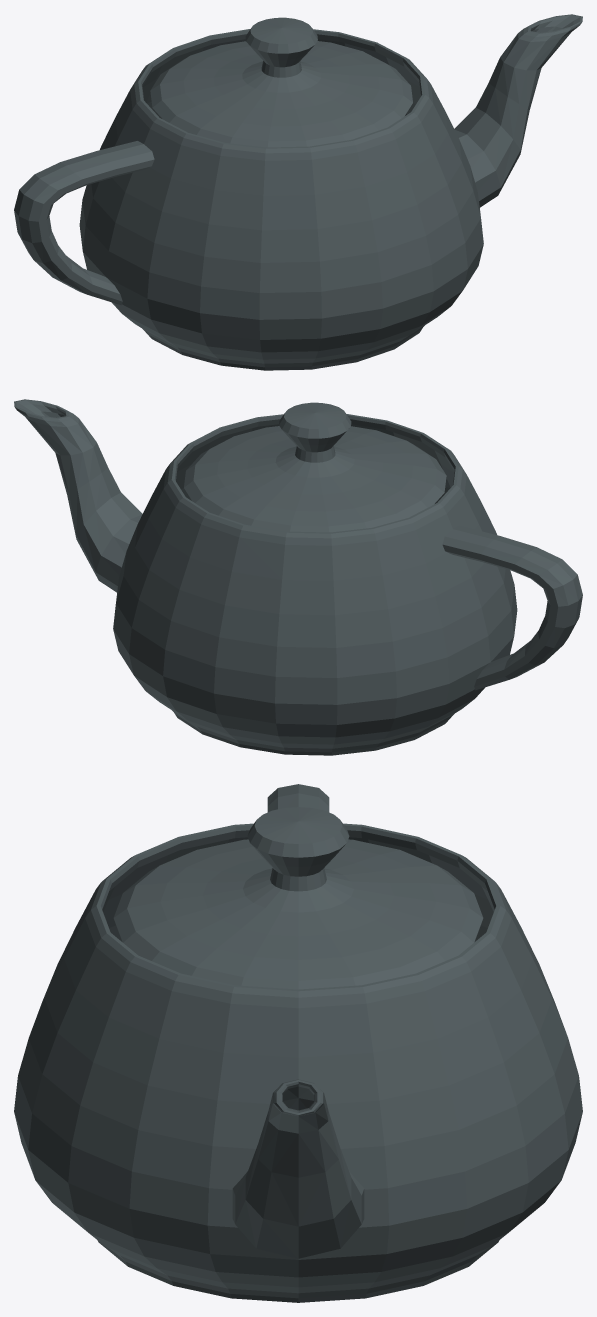
Rendered from teapot.obj.
3 renders of one model, top to bottom at view 1: azimuth 30°, elevation 25°; view 2: azimuth 150°, elevation 25°; view 3: azimuth 270°, elevation 25°, orthographic. The views are drawn at different scales.
Bounding box in the file's own units: 3.22 × 1.58 × 2.
